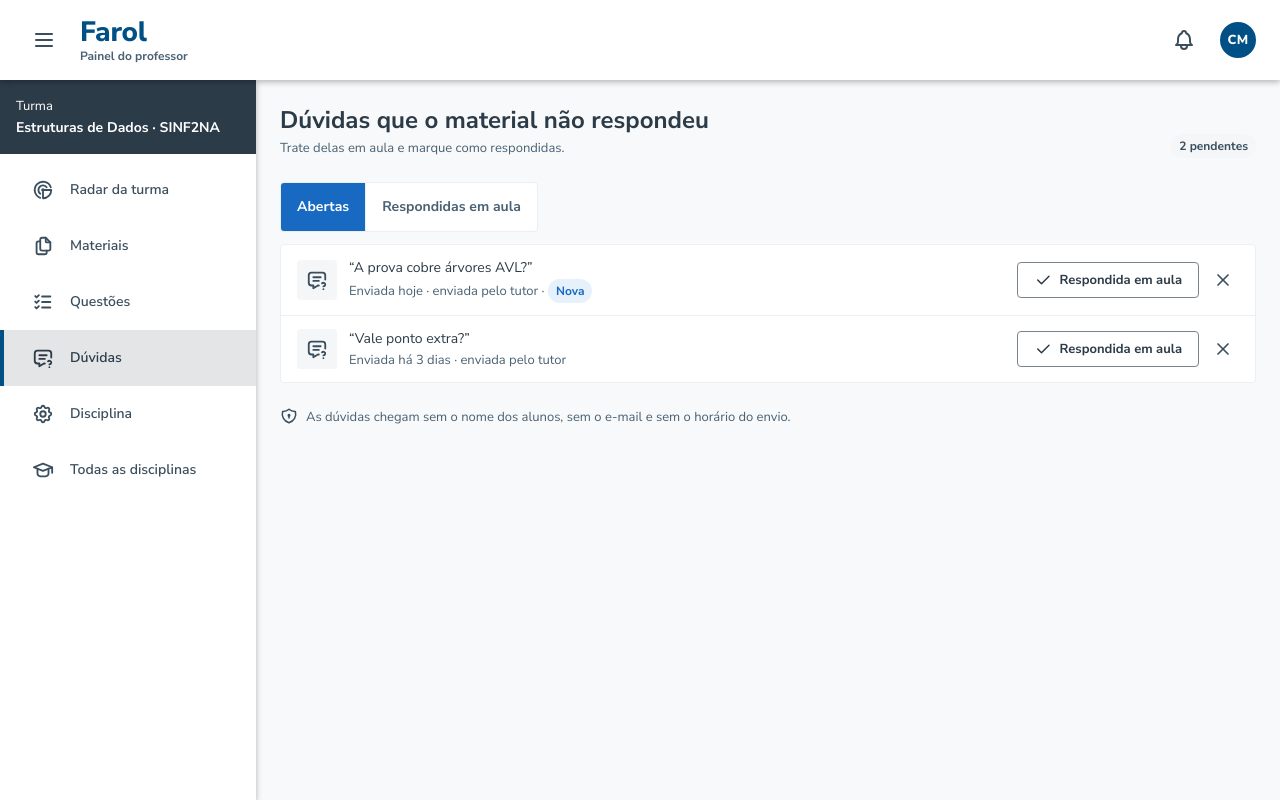
Test: dúvidas da turma para o professor (DUV-T23) › respondida em aula sai das abertas e aparece na aba das respondidas
Click the button "Respondida em aula" in the row of "A prova cobre árvores AVL?".
click(1108, 280)  # box [1017,262,1199,298]
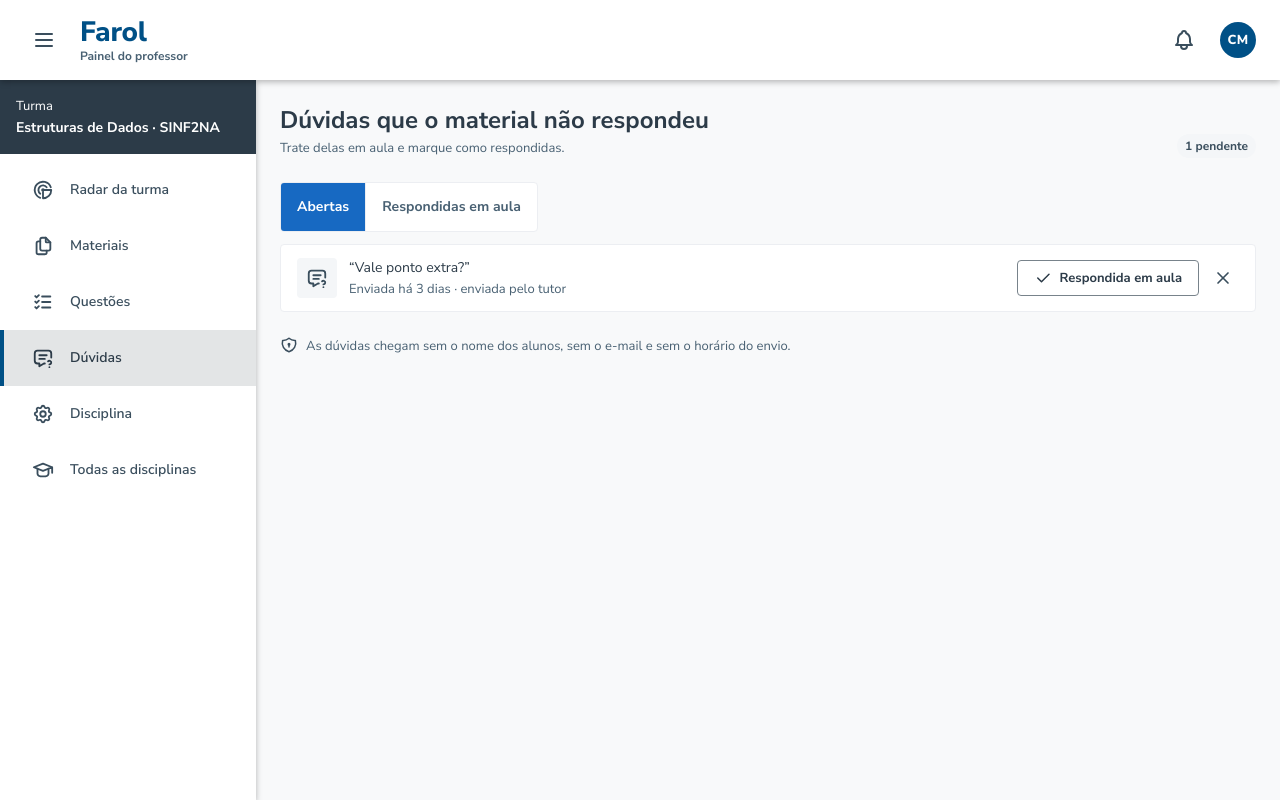
Expected: the text "A prova cobre árvores AVL?" is gone
Click the tab "Respondidas em aula".
click(451, 207)  # box [365,183,537,231]
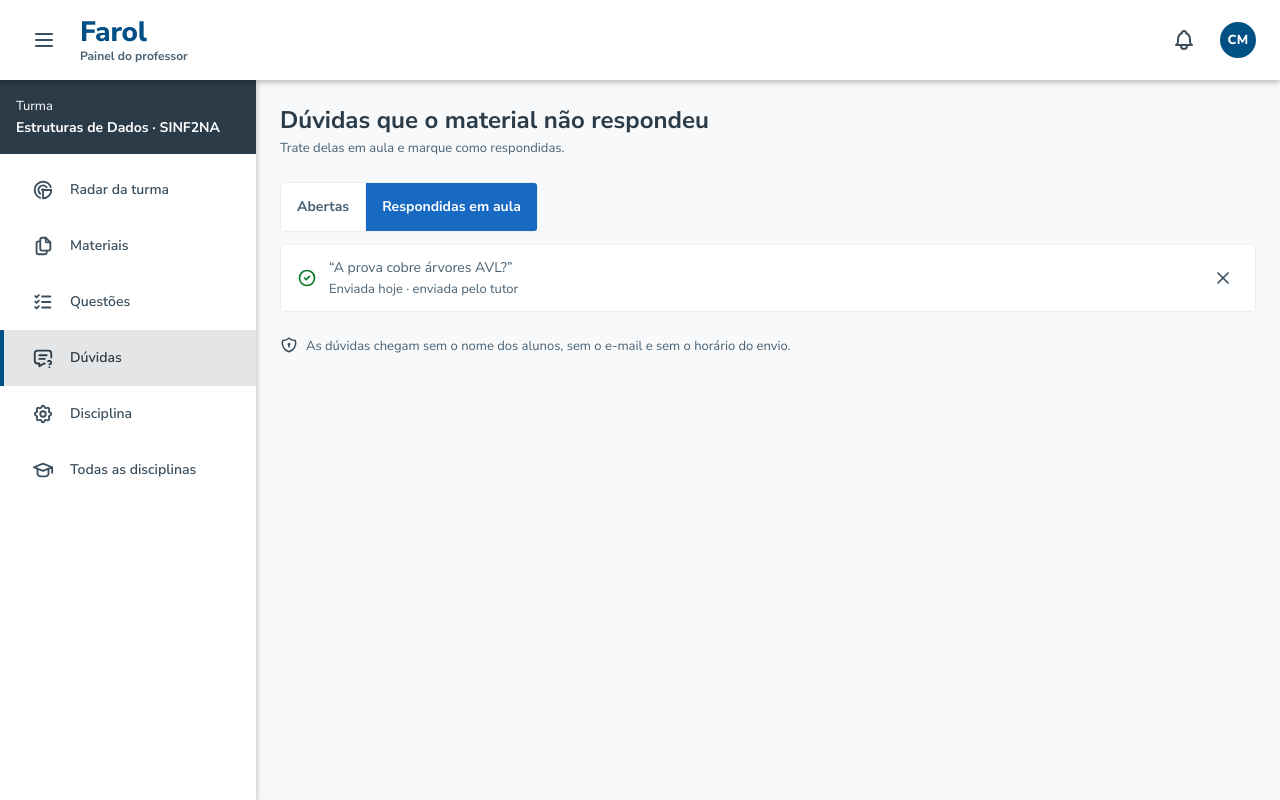
Expected: the text "A prova cobre árvores AVL?" is shown, [334,258,507,277]
